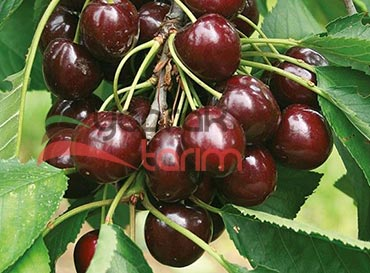Cherry: (69, 107, 144, 189), (178, 106, 243, 176), (173, 15, 241, 80)
